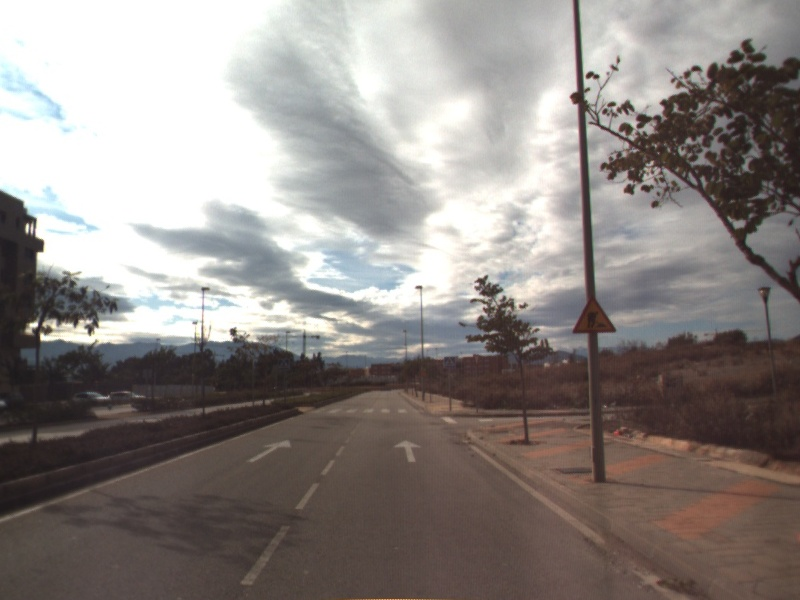STRAIGHT: (245, 438, 292, 464), (392, 437, 425, 464)
